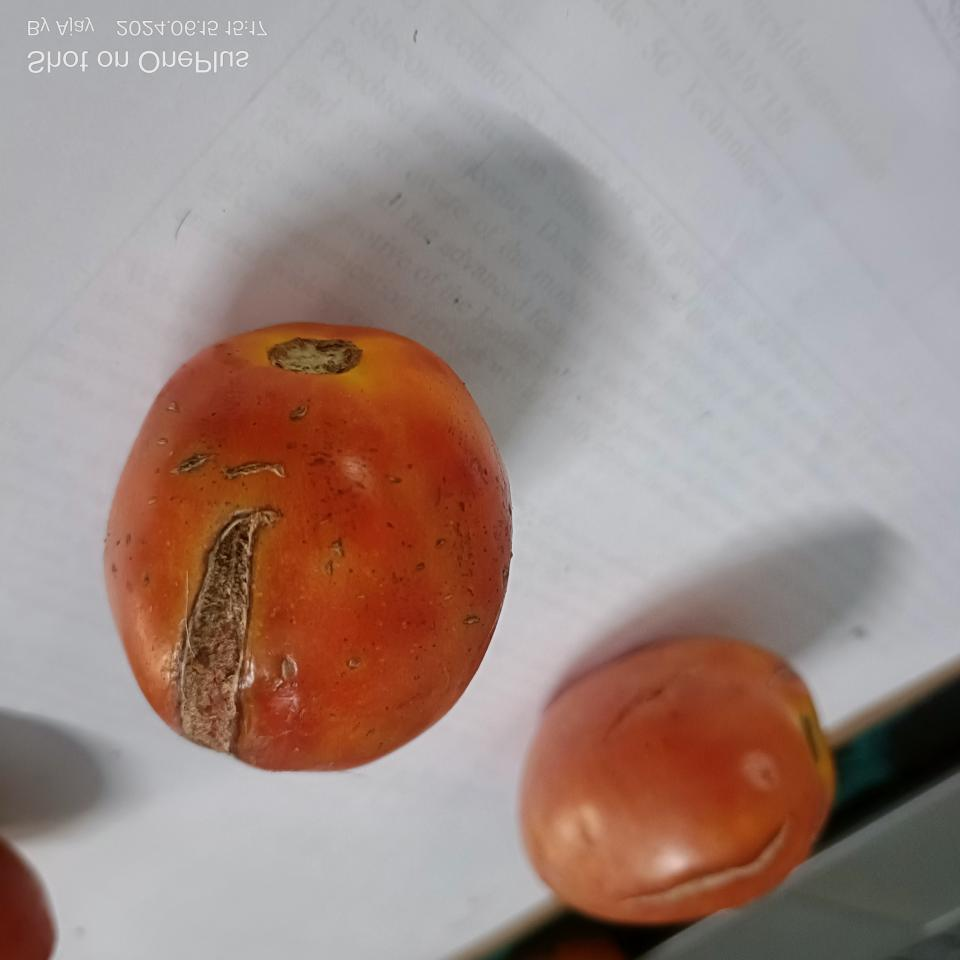Cracking: (180, 513, 262, 767)
